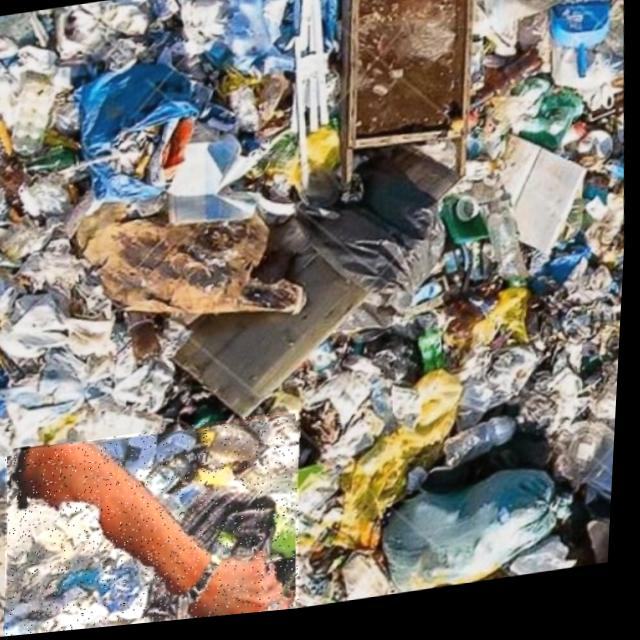Person in Rubble: (1, 415, 312, 638)
